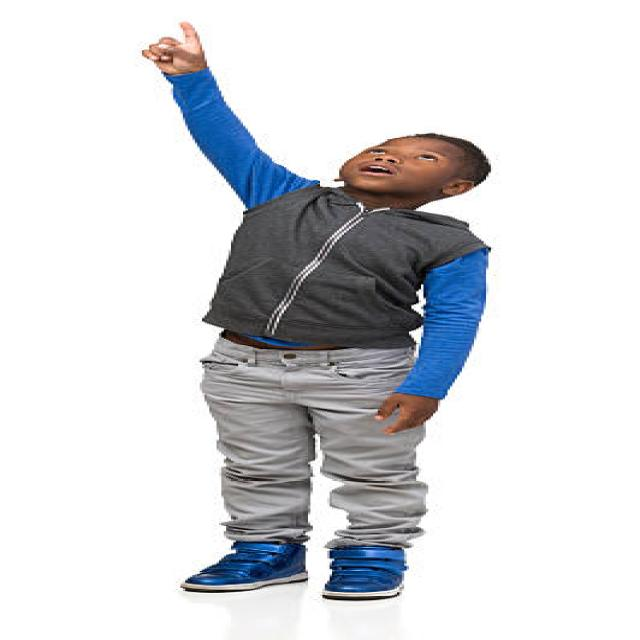Edited images: (118, 14, 520, 618)
